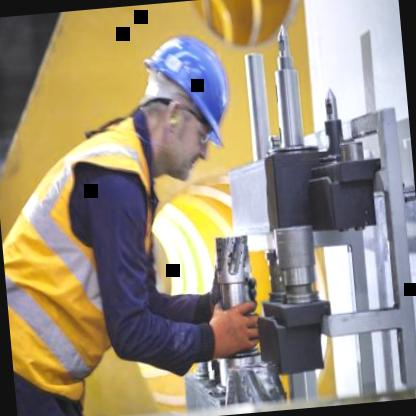helmet: (122, 13, 247, 194)
